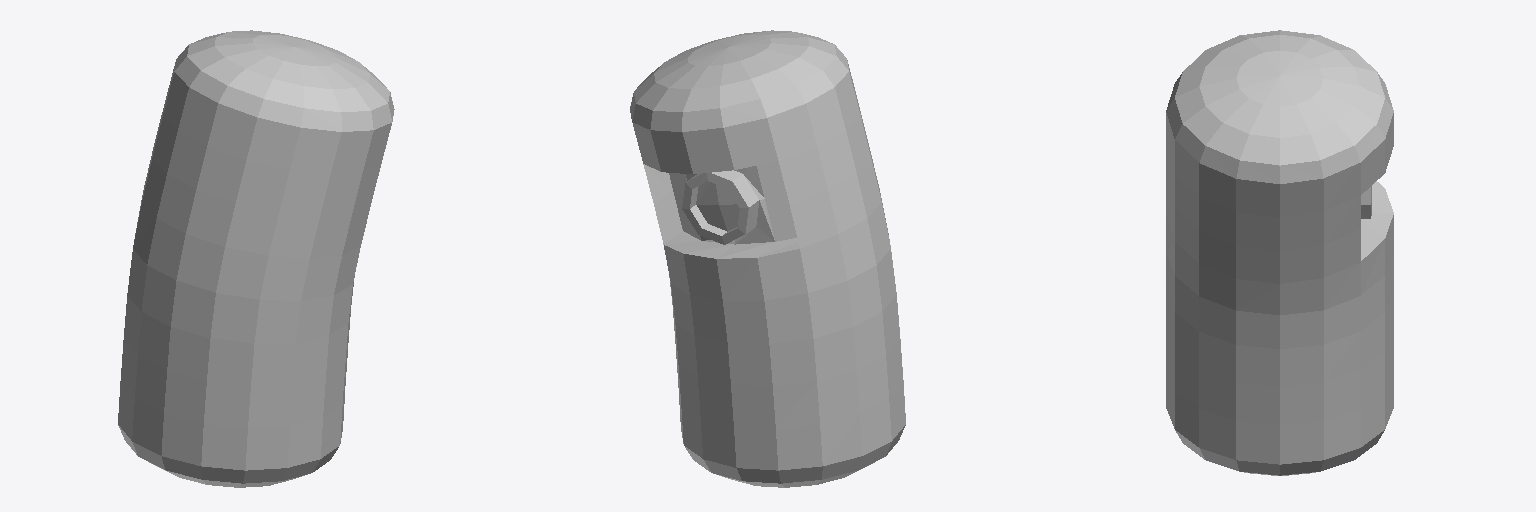
File: idle1.obj
3 views of the same model, side by side, from view 1: azimuth 30°, elevation 25°; view 2: azimuth 150°, elevation 25°; view 3: azimuth 270°, elevation 25° (orthographic).
Parts seen in each view (by area): view 1: Sphere; view 2: Sphere; view 3: Sphere.
Part boxes in pixels (bbox=[...]): Sphere: bbox=[118, 30, 394, 487]; Sphere: bbox=[630, 30, 905, 487]; Sphere: bbox=[1166, 30, 1393, 475].
Bounding box in the file's own units: 1.25 × 2 × 1.